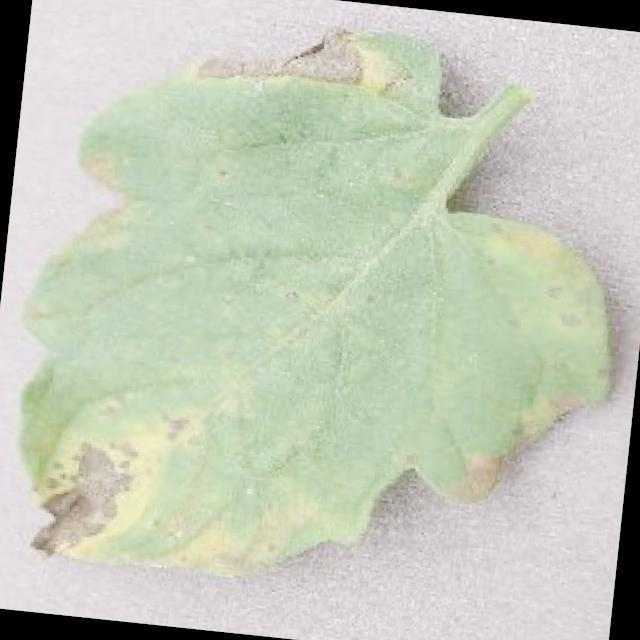Tomato Septoria spot leaf: (1, 4, 640, 611)
